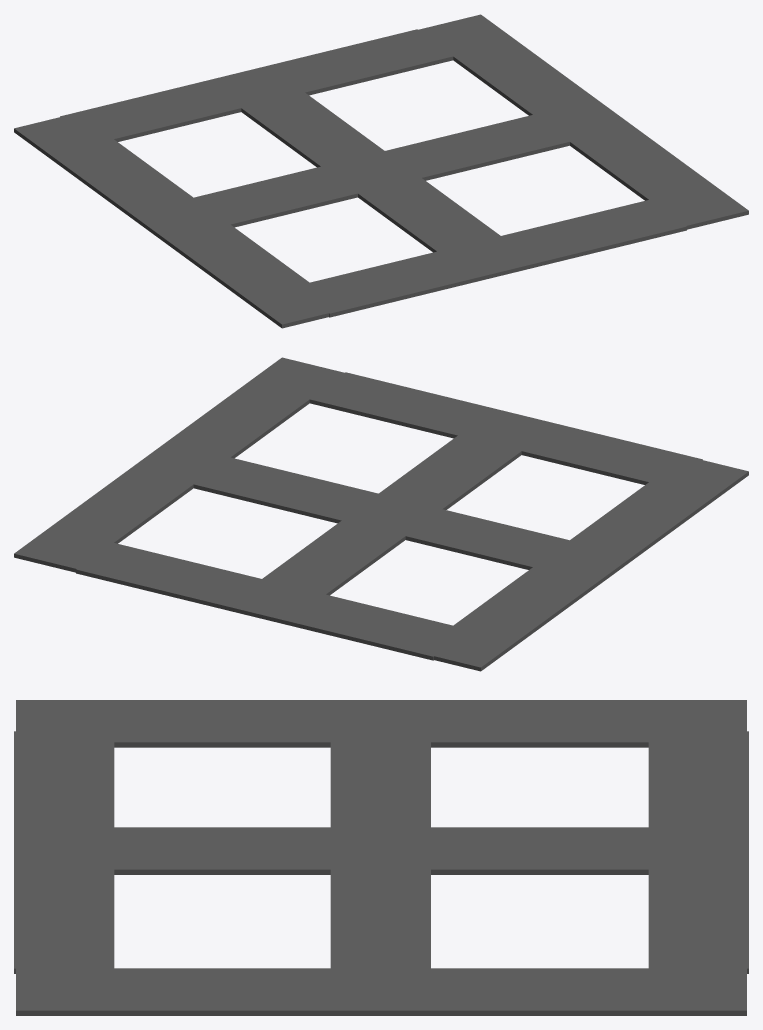
The model's file is road_world_ap_0_lev1.glb.
3 renders of one model, top to bottom at view 1: azimuth 30°, elevation 25°; view 2: azimuth 150°, elevation 25°; view 3: azimuth 270°, elevation 25°, orthographic. The views are drawn at different scales.
Parts seen in each view (by area): view 1: road_world_ap_0_lev1; view 2: road_world_ap_0_lev1; view 3: road_world_ap_0_lev1.
Boxes of the visible parts, x1,y1,x2,y2 form: road_world_ap_0_lev1: (14,14,748,328); road_world_ap_0_lev1: (14,357,748,671); road_world_ap_0_lev1: (14,700,748,1015).
Bounding box in the file's own units: 21.92 × 0.1766 × 21.92.
Materials: 1 (1 with a texture image).
